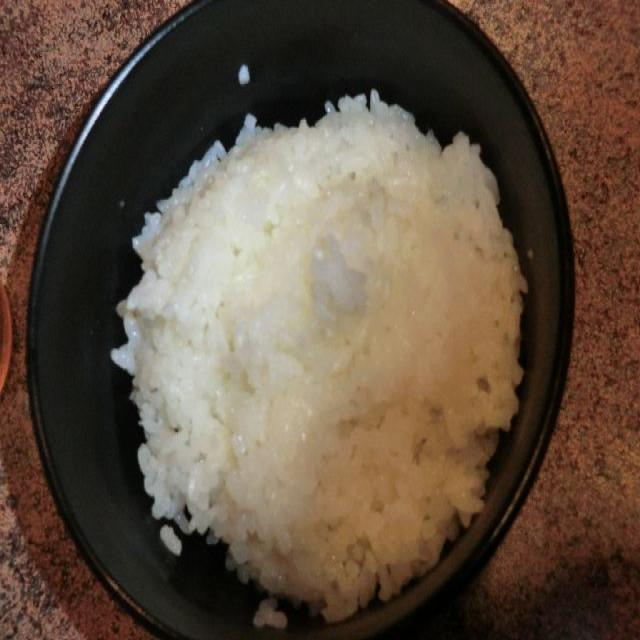Rice: (120, 91, 568, 604)
